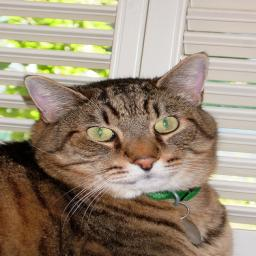catnose: (128, 152, 163, 172)
